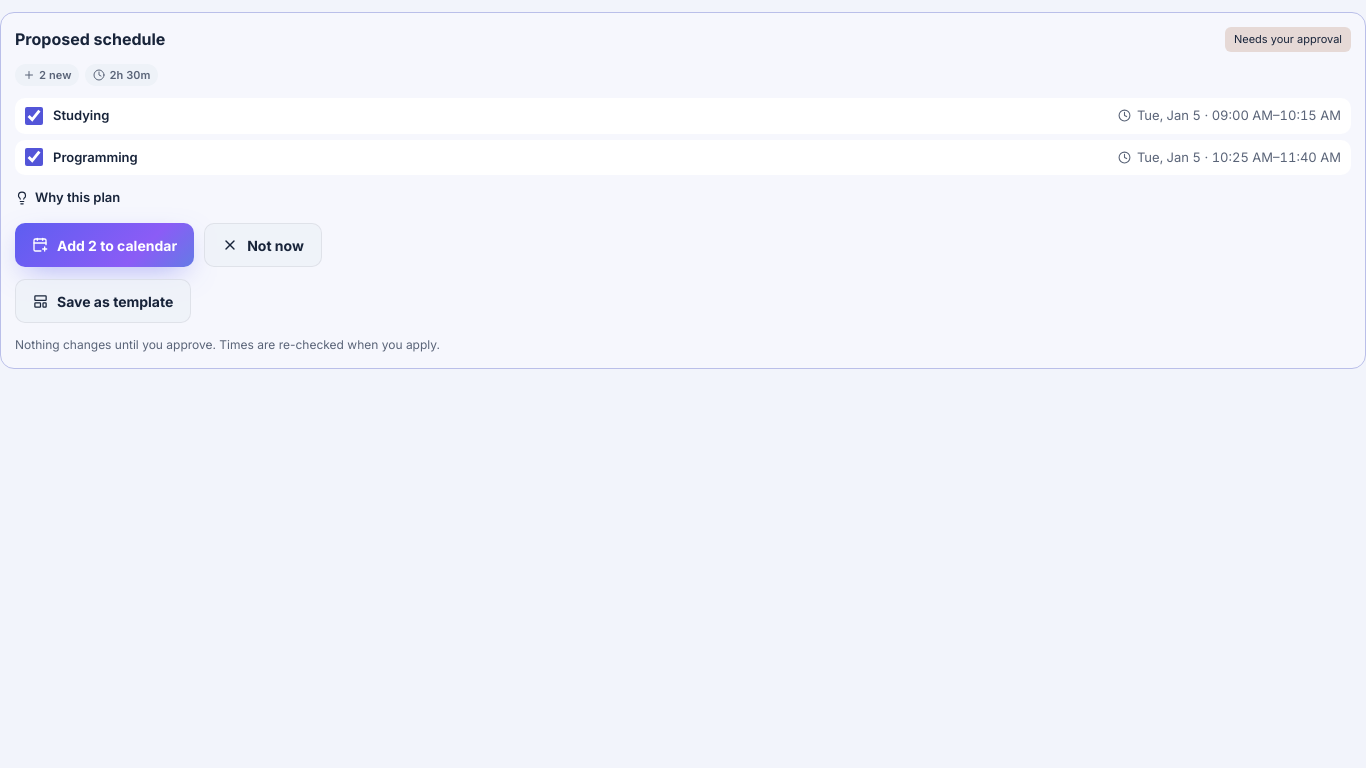
Scenario: assistant proposals › applies only the changes the user keeps selected
The width and height of the screenshot is (1366, 768).
Expected: the text "Needs your approval" is shown, [1225, 27, 1351, 52]
Click the checkbox labelled "Studying" at (34, 116), box [25, 107, 43, 125]
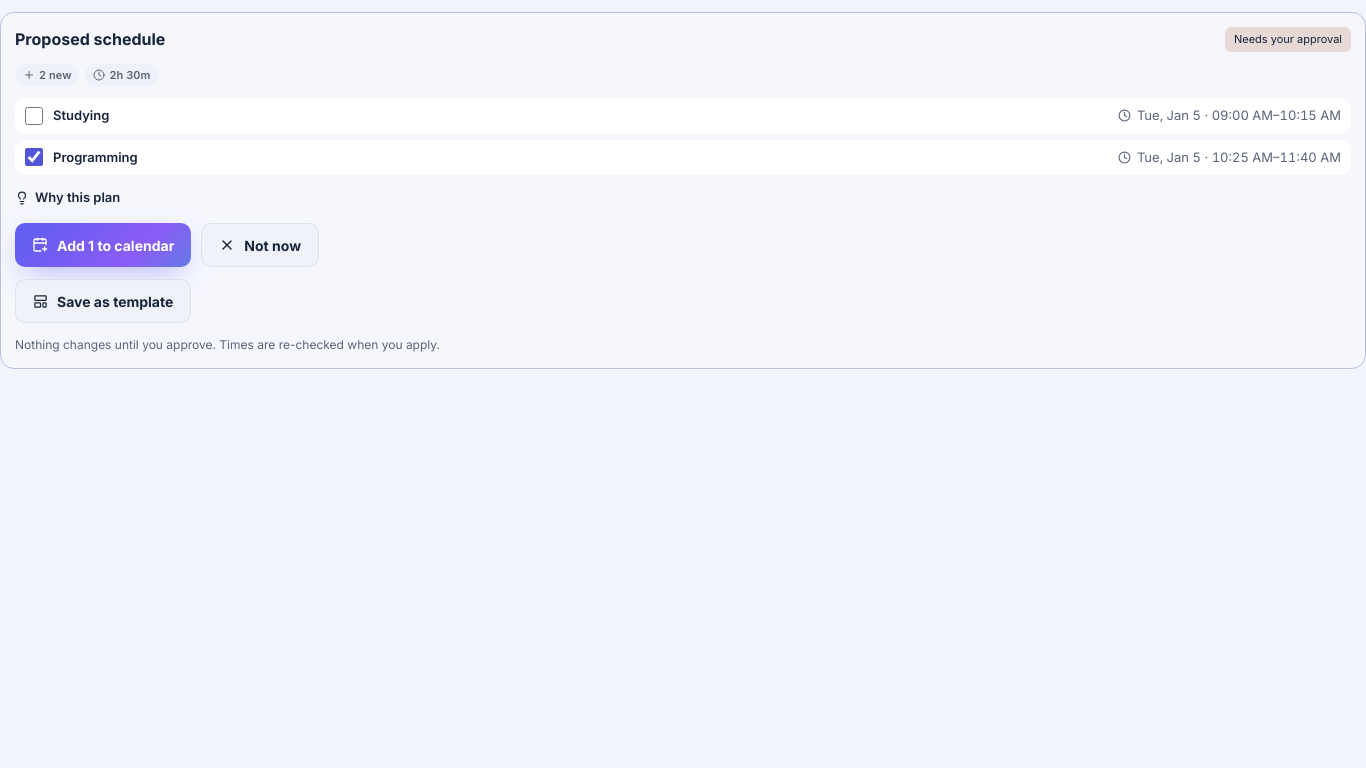
Click the button "Add 1 to calendar" at (103, 245), box [15, 223, 191, 267]
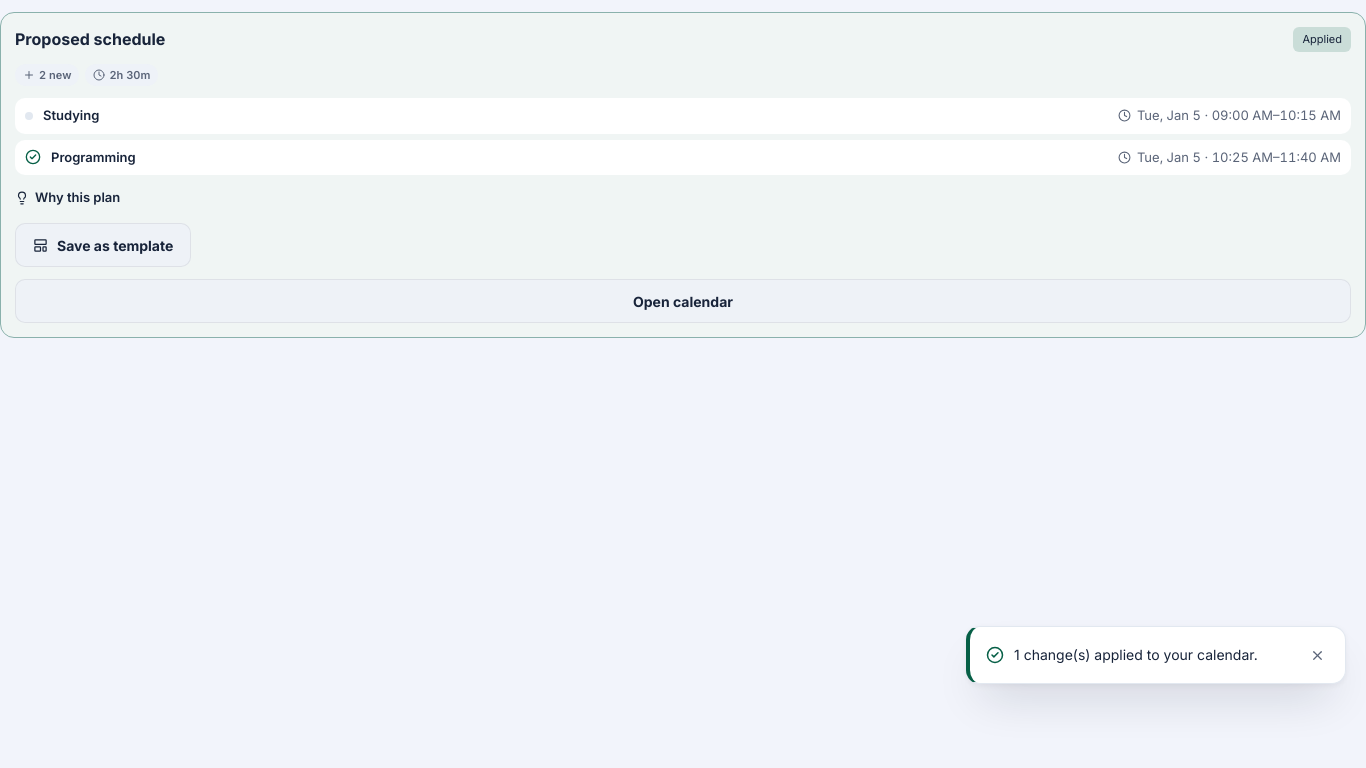
Expected: the text "Applied" is shown, [1294, 27, 1351, 52]
